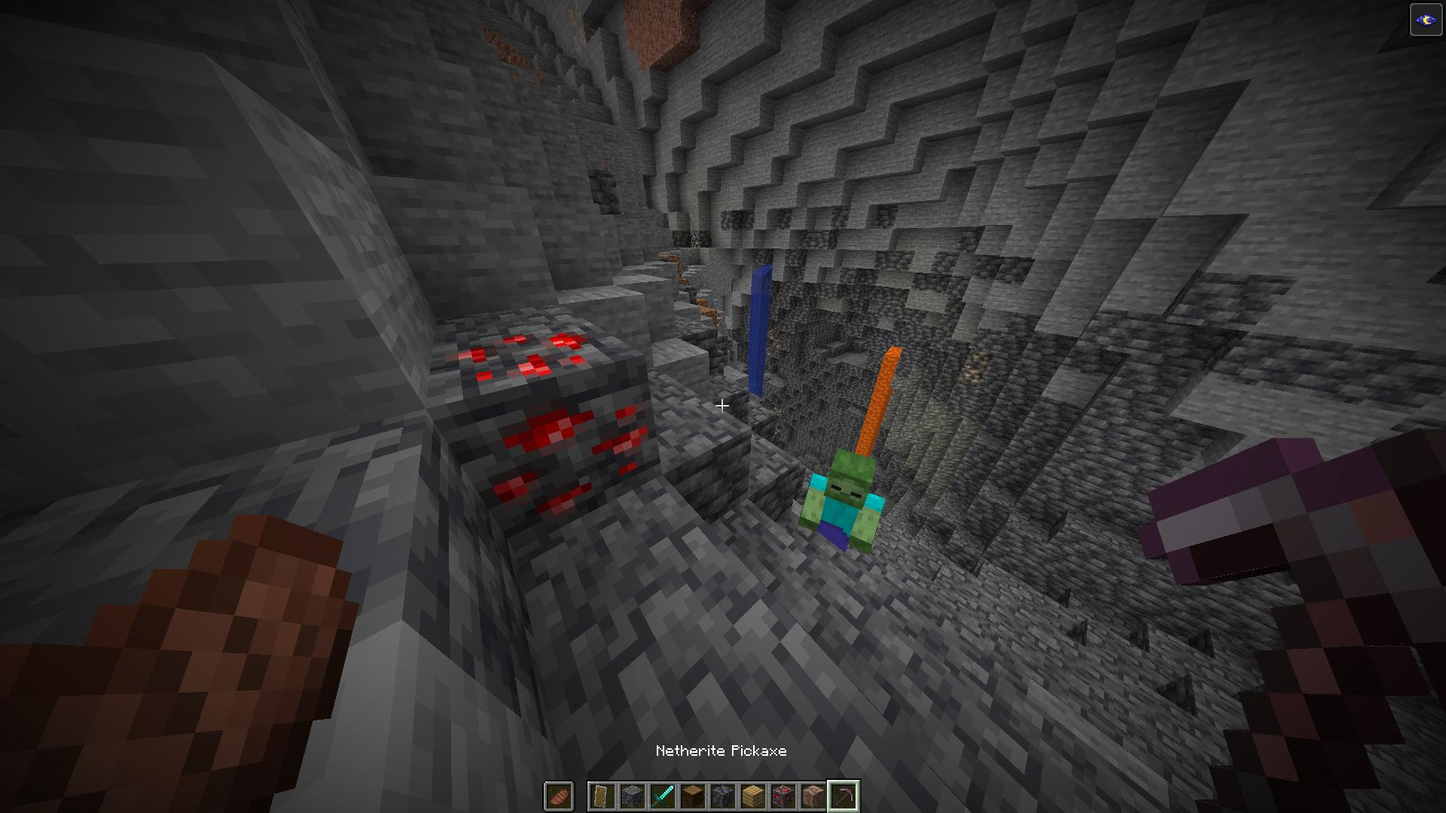iron ore: (962, 362, 986, 385), (969, 347, 994, 367)
redstone ore: (495, 382, 651, 539), (435, 326, 608, 391)
